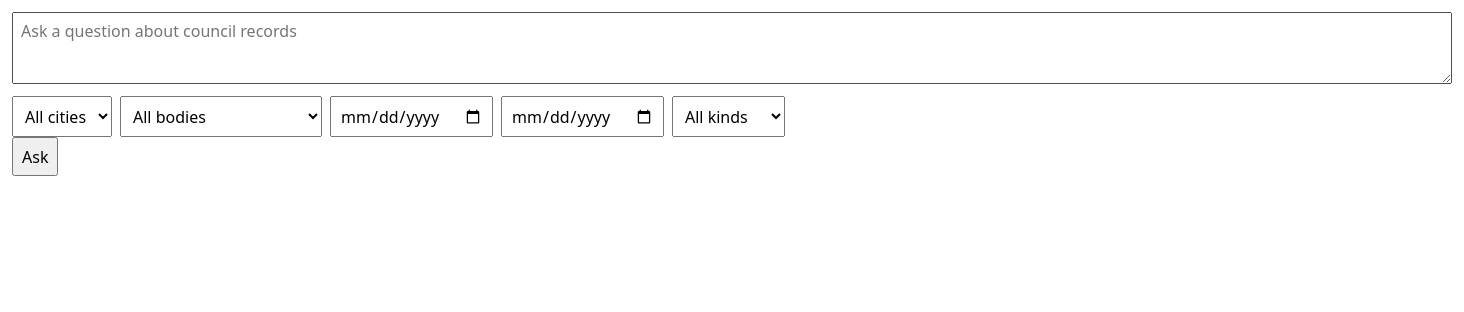
Test case: sends filters with the question
Type "How did they vote?" into the text box with test id "ask-input" at (732, 48), box [12,12,1452,84]
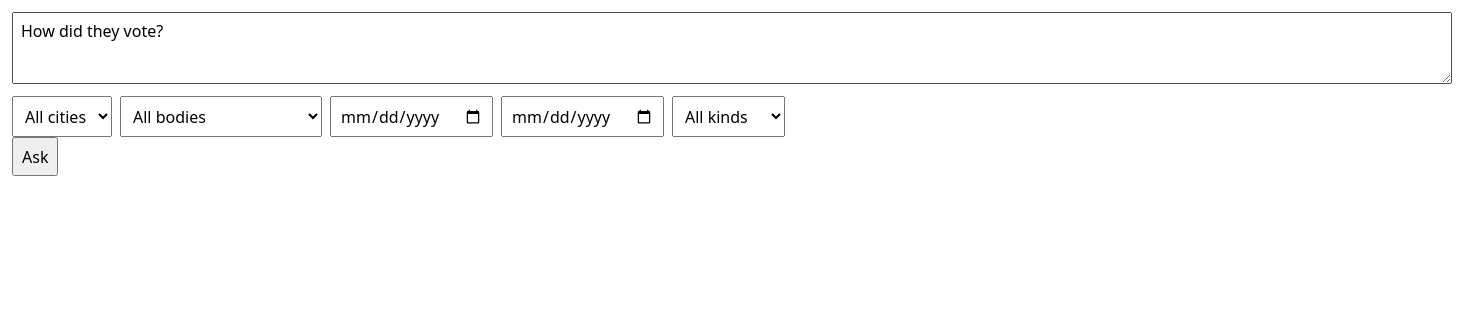
Select "Birch" in the dropdown with test id "filter-city" at (62, 117), box [12,96,112,137]
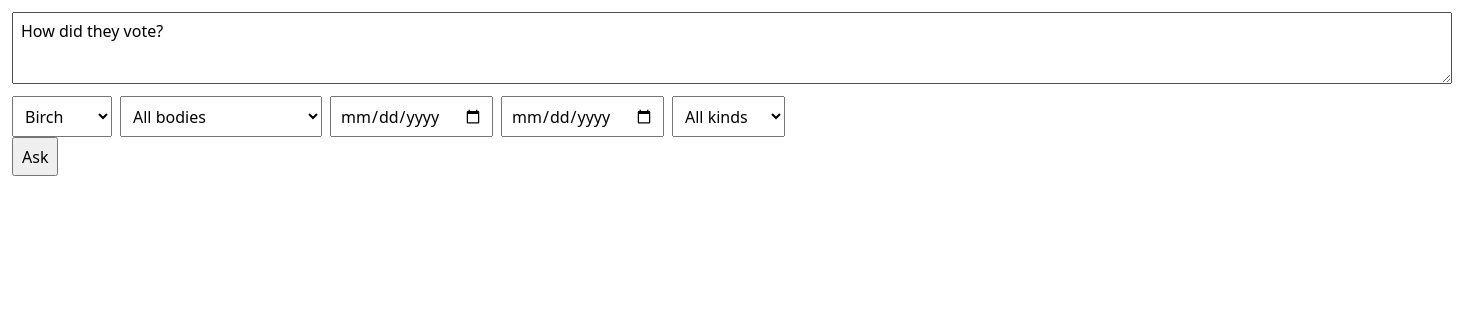
Click the button with test id "ask-submit" at (35, 157), box [12,137,58,176]
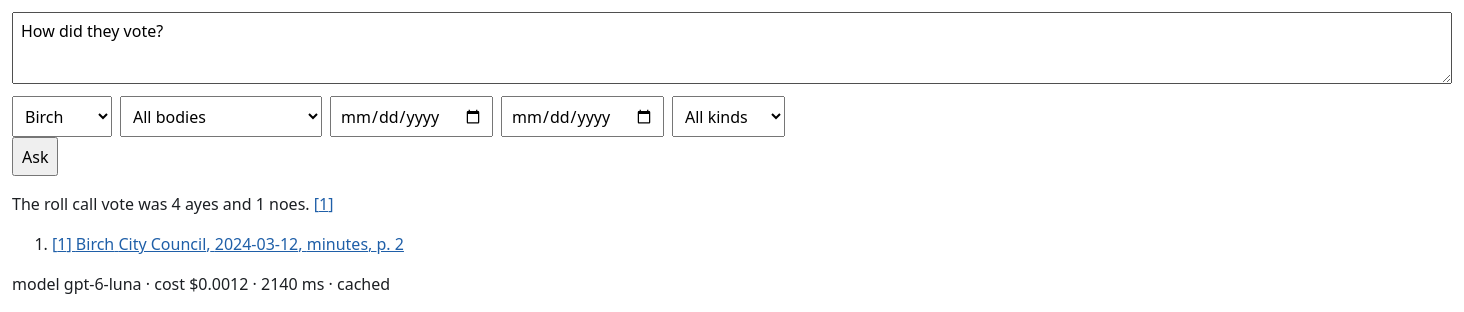
Expected: the element with test id "answer" is shown, [12,193,404,295]
